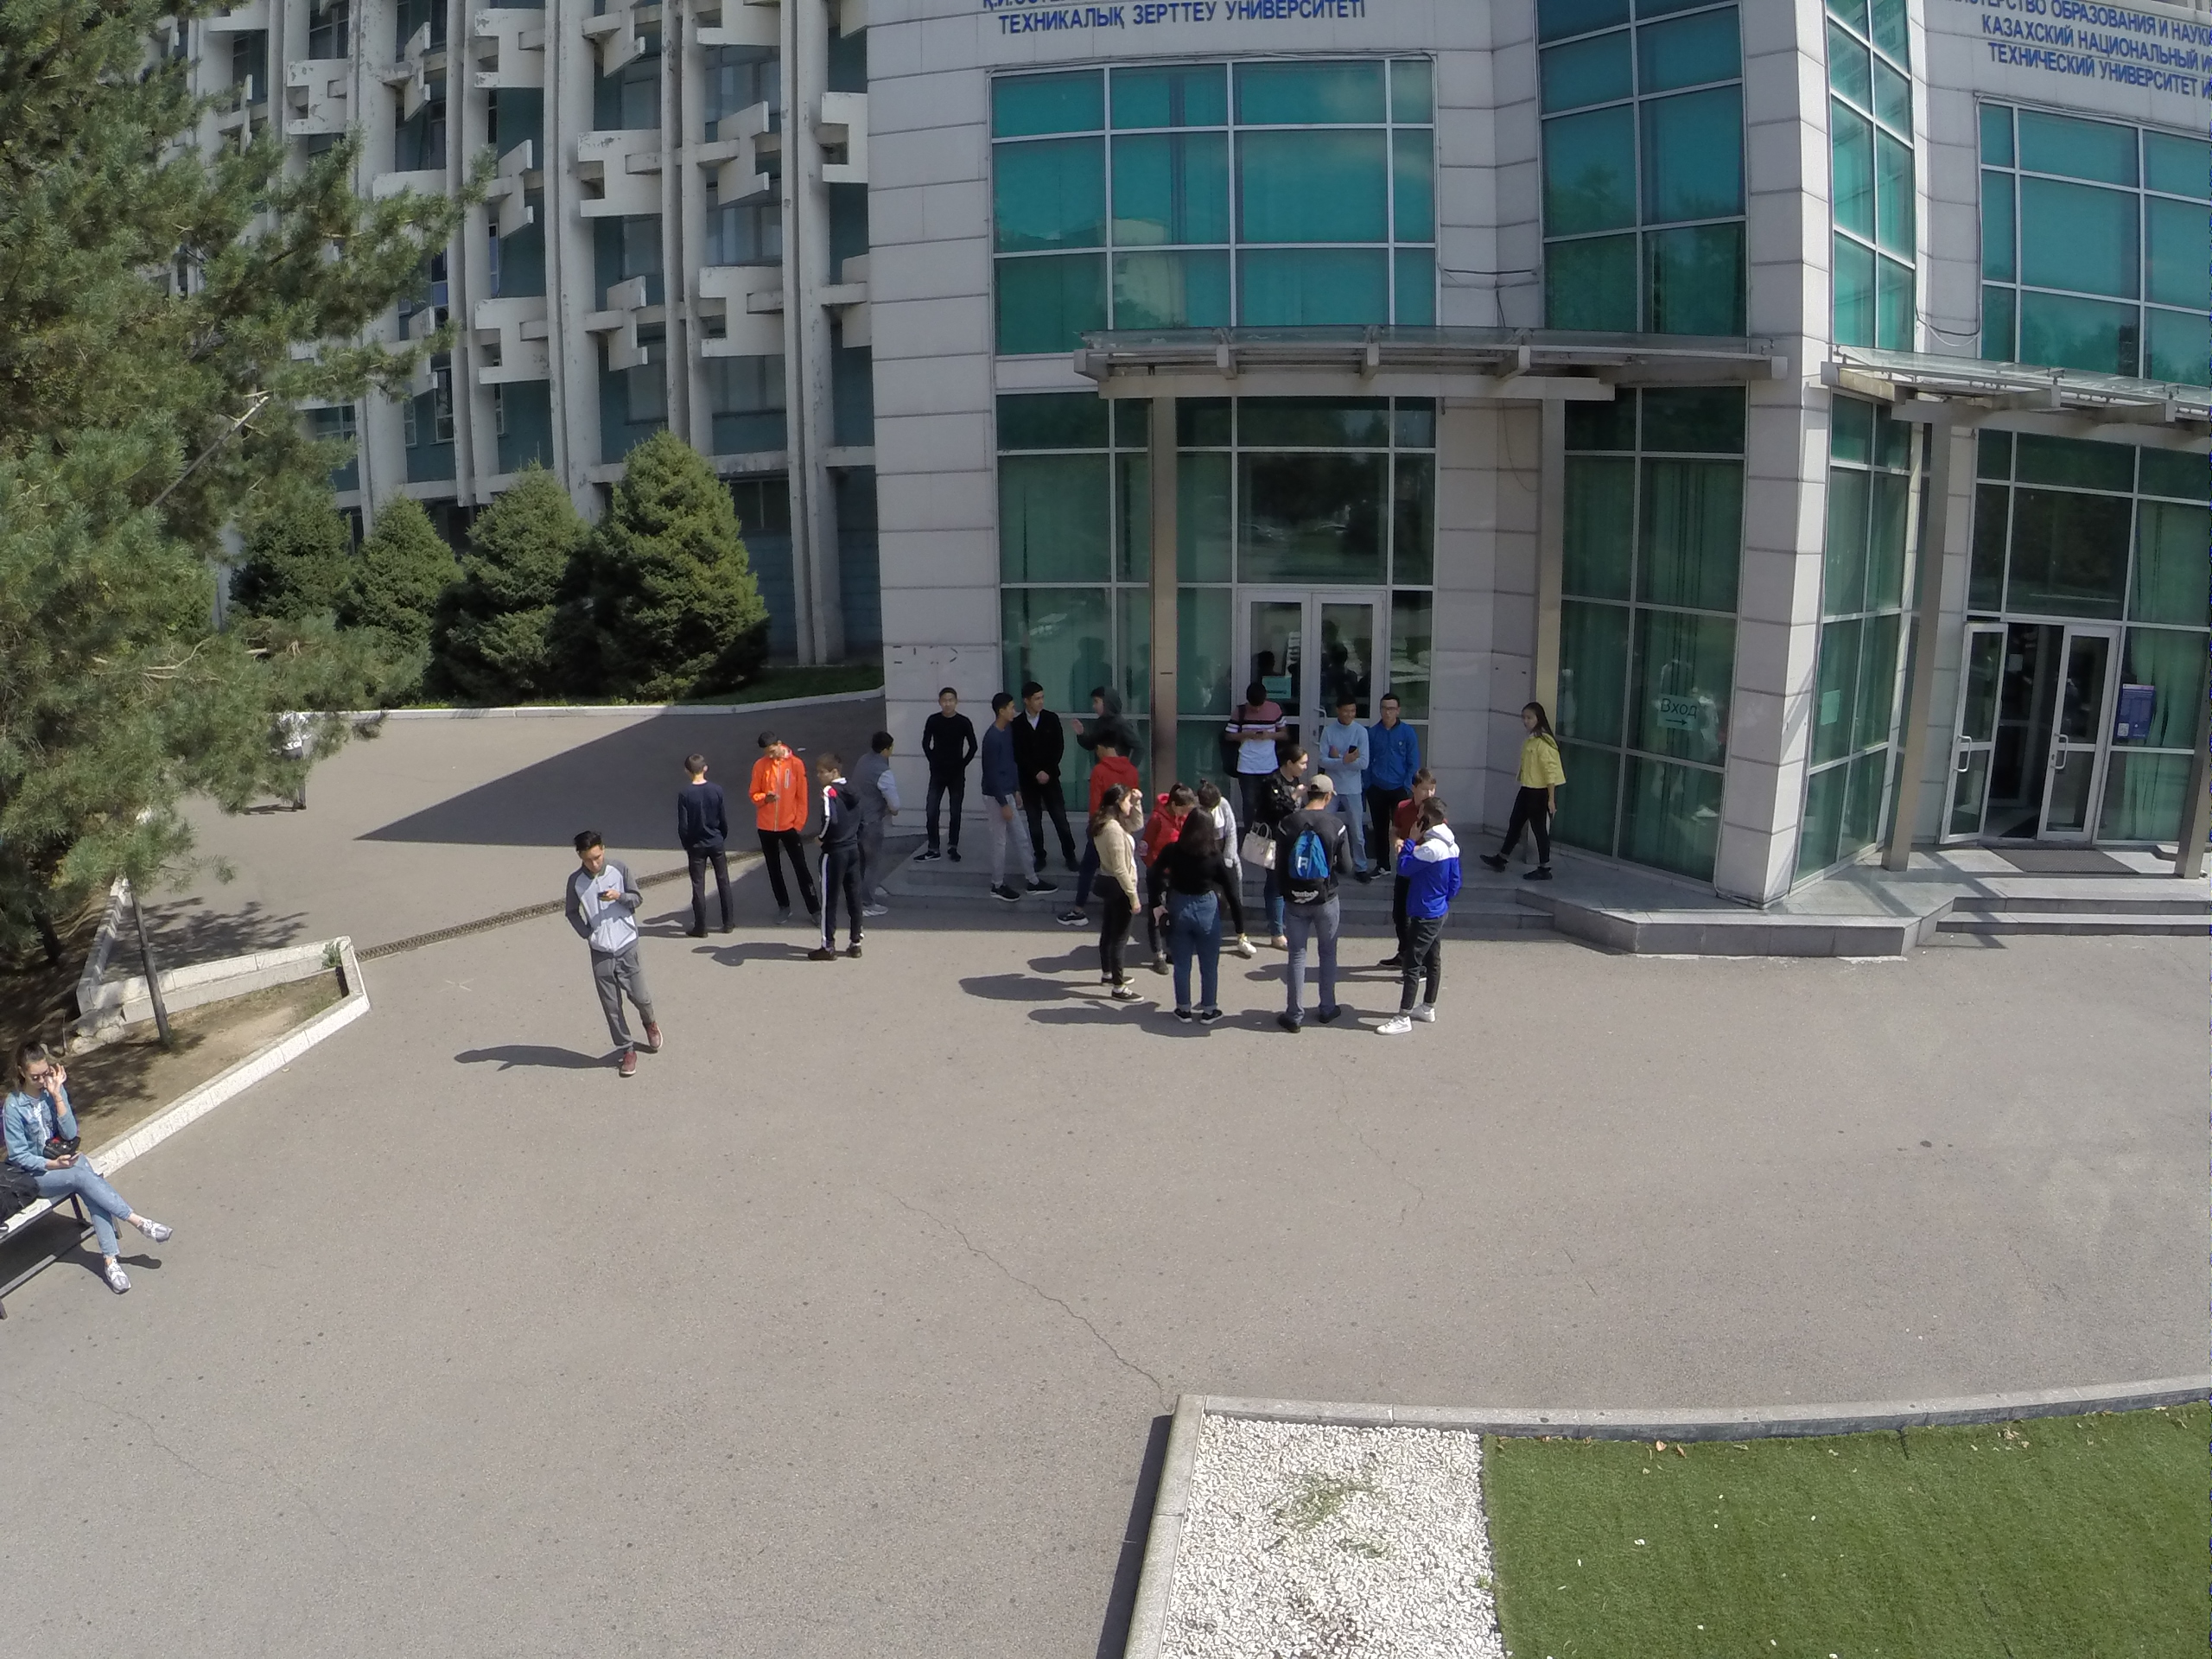person: (4, 1031, 173, 1311), (562, 825, 669, 1086), (1382, 798, 1459, 1039), (1278, 777, 1350, 1034), (669, 750, 745, 943), (1490, 696, 1560, 880), (1168, 813, 1225, 1037), (812, 751, 865, 969), (911, 686, 976, 863), (1016, 678, 1075, 870), (757, 725, 812, 931), (1096, 781, 1139, 1008), (979, 690, 1022, 902), (1325, 699, 1376, 880), (854, 727, 896, 930), (1228, 680, 1283, 809), (1370, 695, 1413, 804), (1073, 685, 1132, 728), (1086, 732, 1132, 785)
